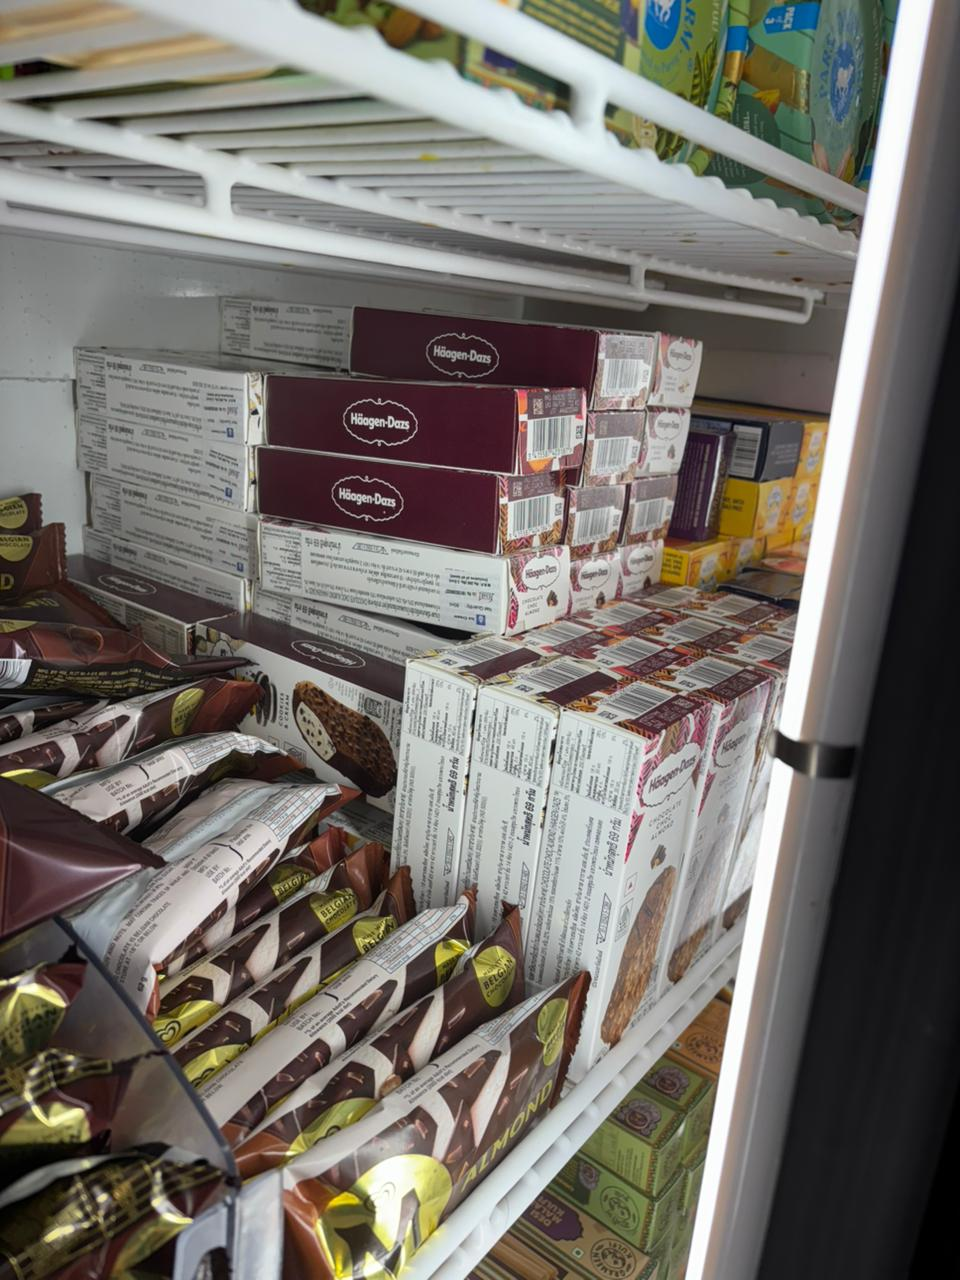Haagen-Dazs IceCream Bars: (496, 669, 723, 1058), (433, 654, 625, 964), (352, 639, 536, 918), (641, 651, 776, 986), (262, 367, 592, 478), (351, 304, 657, 419), (242, 542, 574, 643), (245, 474, 577, 545), (639, 344, 721, 407), (555, 548, 628, 616), (581, 407, 640, 490), (566, 482, 627, 555), (632, 408, 695, 479), (599, 541, 666, 597), (625, 475, 680, 540)
